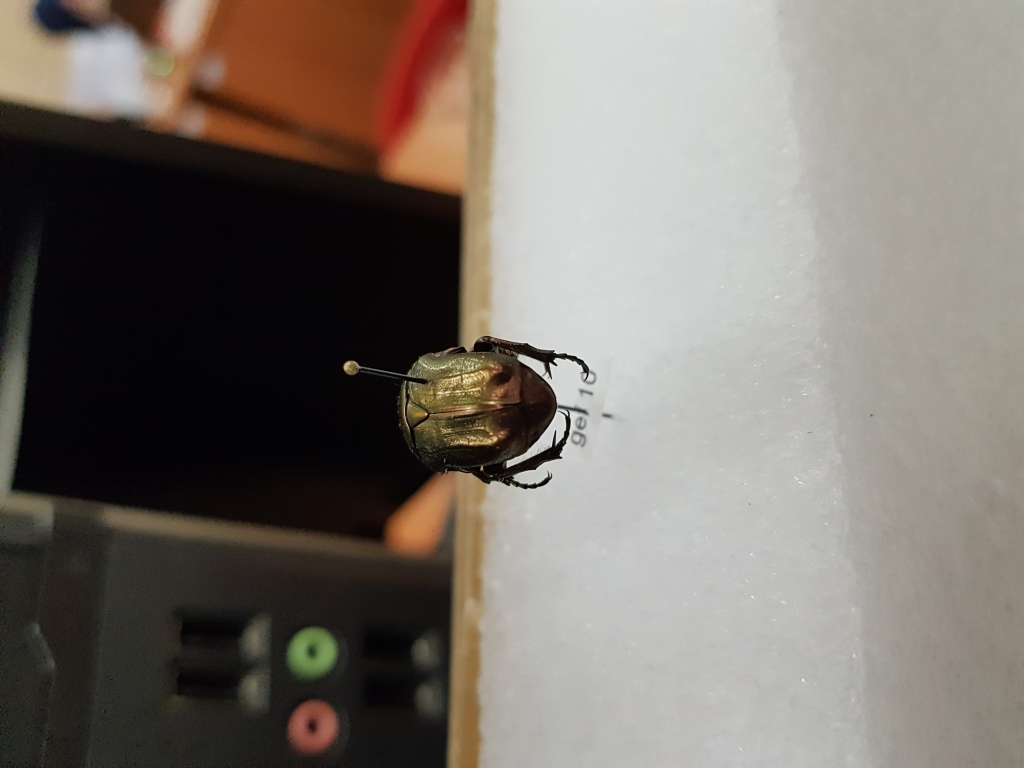Cetonia_aurata: (395, 333, 602, 497)
